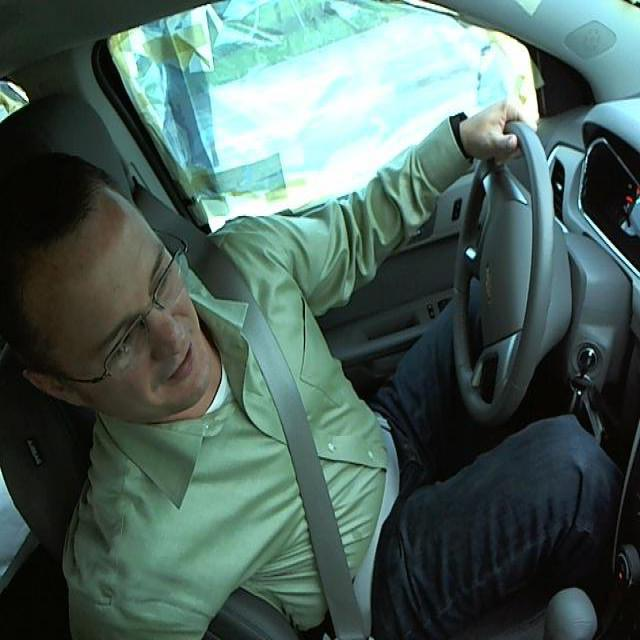seatbelt: (244, 302, 377, 638)
